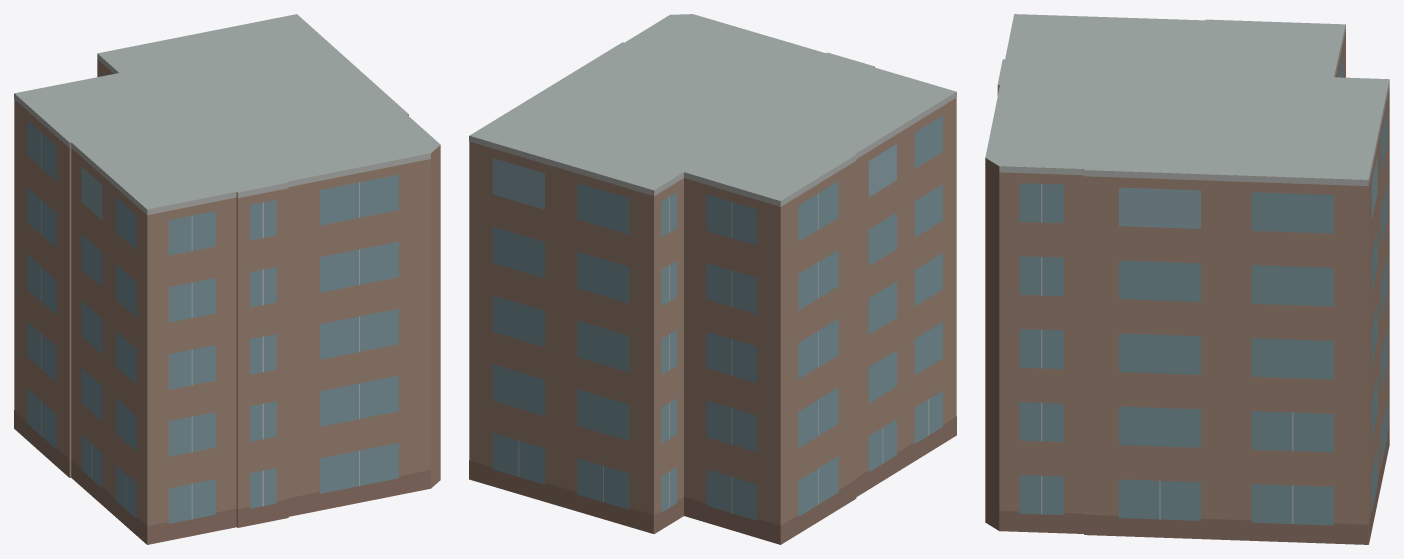
The model's file is survey-upis-33006093.glb.
3 renders of one model, left to right at view 1: azimuth 30°, elevation 25°; view 2: azimuth 150°, elevation 25°; view 3: azimuth 270°, elevation 25°, orthographic. The views are drawn at different scales.
Parts seen in each view (by area): view 1: survey-upis-33006093.tmp; view 2: survey-upis-33006093.tmp; view 3: survey-upis-33006093.tmp.
Boxes of the visible parts, <box> form: survey-upis-33006093.tmp: <box>14,14,440,544</box>; survey-upis-33006093.tmp: <box>469,14,956,544</box>; survey-upis-33006093.tmp: <box>985,14,1389,544</box>.
Size of the model in its own units: 14.16 by 14.5 by 14.57.
